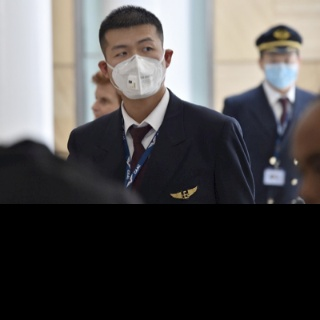with_mask: (105, 35, 166, 98), (264, 53, 300, 91)
